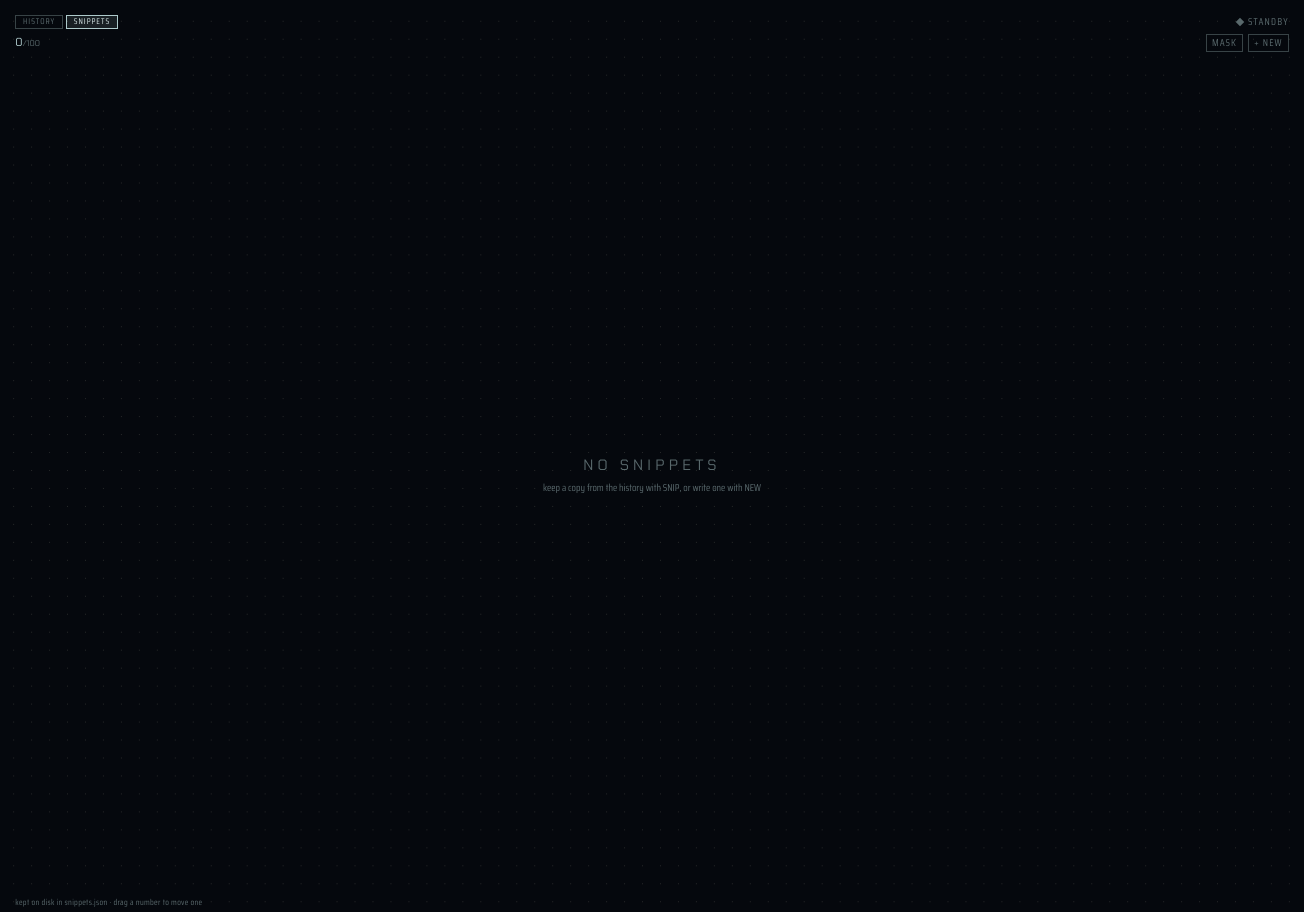
Test: ClipboardWidget: snippets › writes a new snippet, and says why one was not kept
Expected: the element with test id "snip-empty" is shown, [543, 455, 761, 495]
Click the button with test id "snip-new" at (1268, 43), box [1248, 34, 1289, 52]
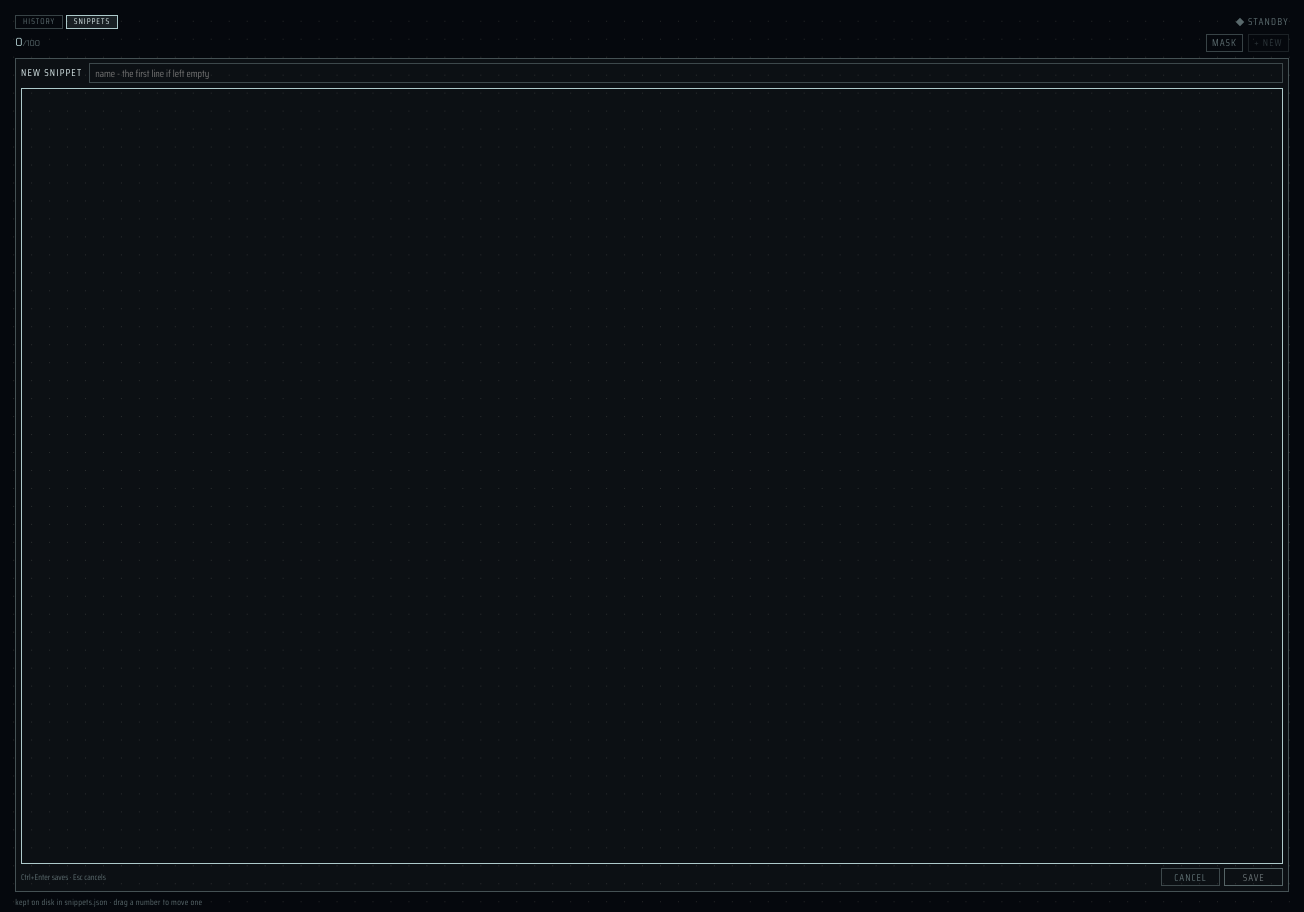
Type "sig" into the field with test id "snip-editor-name" at (686, 73), box [89, 63, 1283, 83]
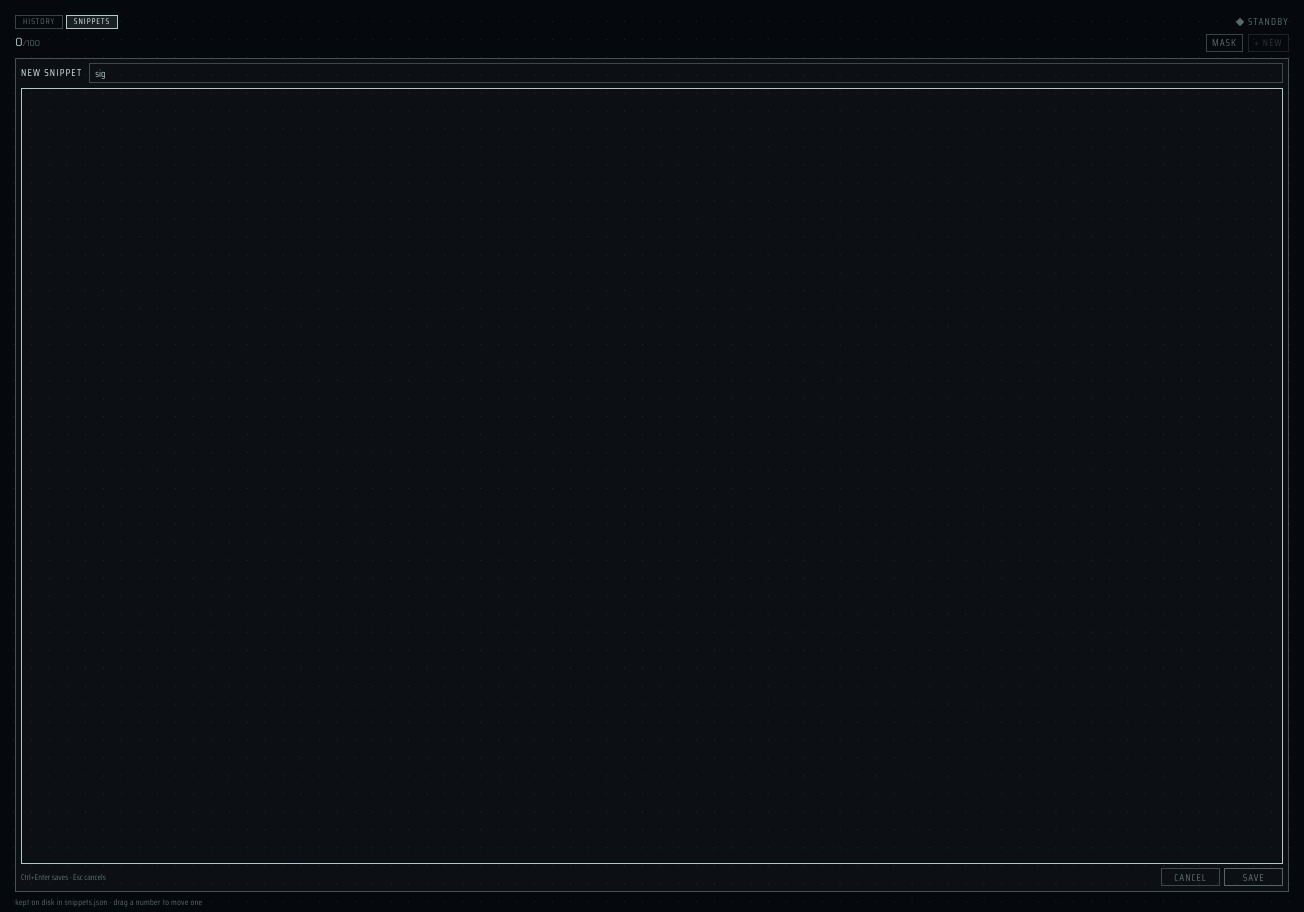
Type "Regards" into the text box with test id "snip-editor-text" at (652, 476), box [21, 88, 1283, 864]
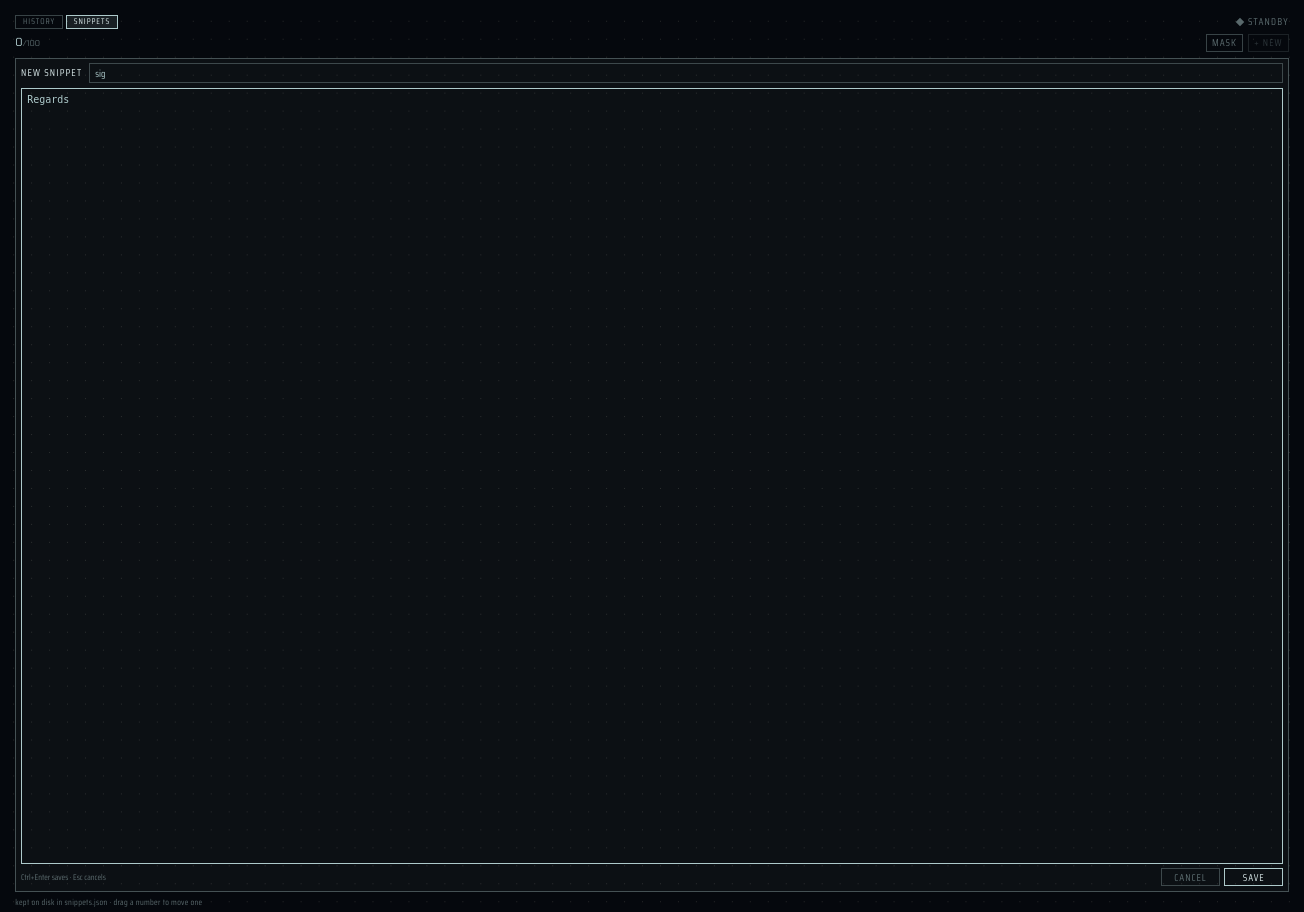
Click the button with test id "snip-editor-save" at (1254, 877), box [1224, 868, 1283, 886]
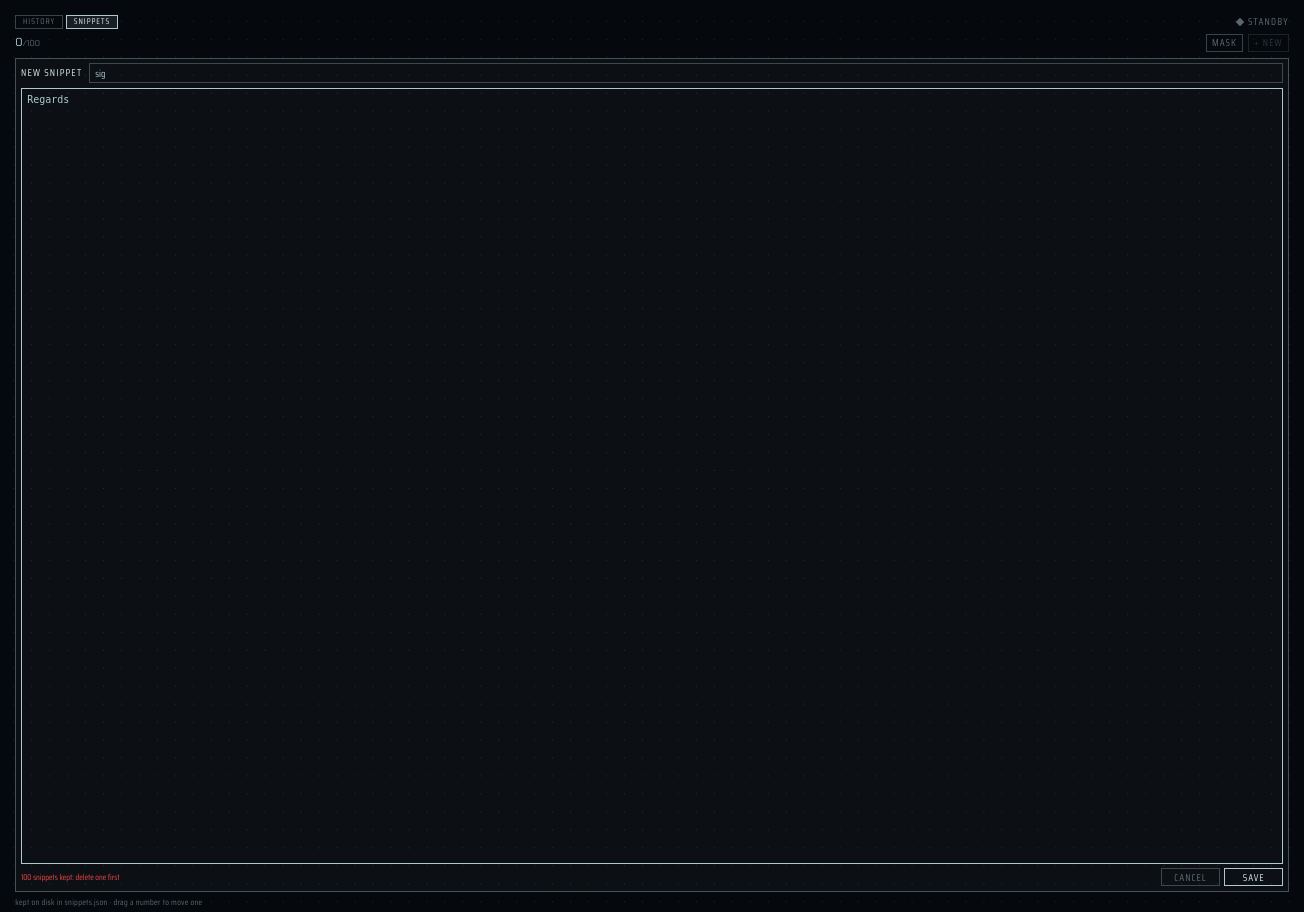
Expected: the text with test id "snip-editor-problem" shows "delete one first", [21, 871, 120, 884]
Press Enter in the text box with test id "snip-editor-text"
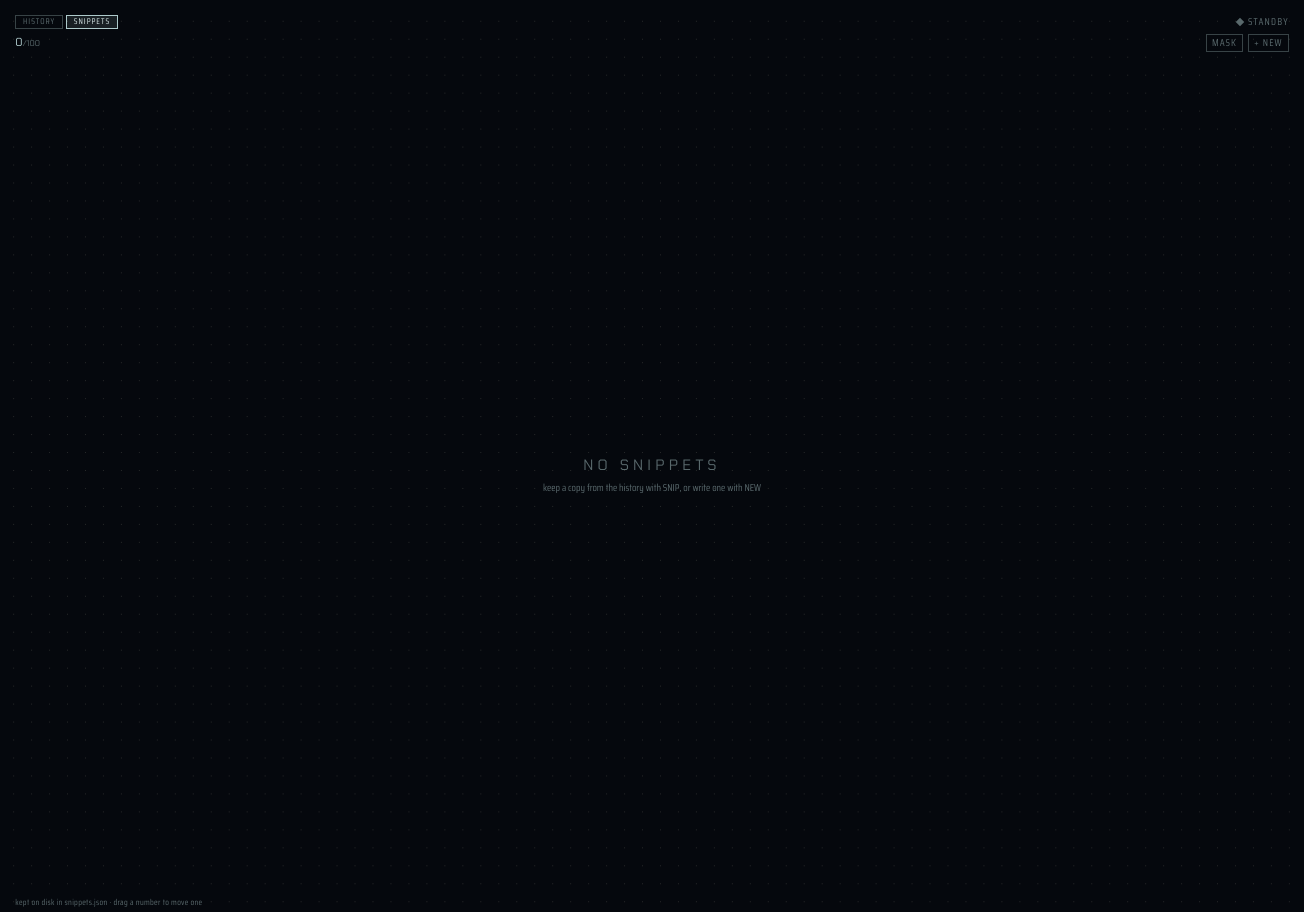
Expected: the element with test id "snip-editor" is gone
